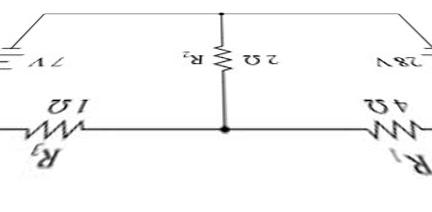resistor: (9, 116, 102, 144), (361, 112, 428, 145), (209, 38, 231, 77)
